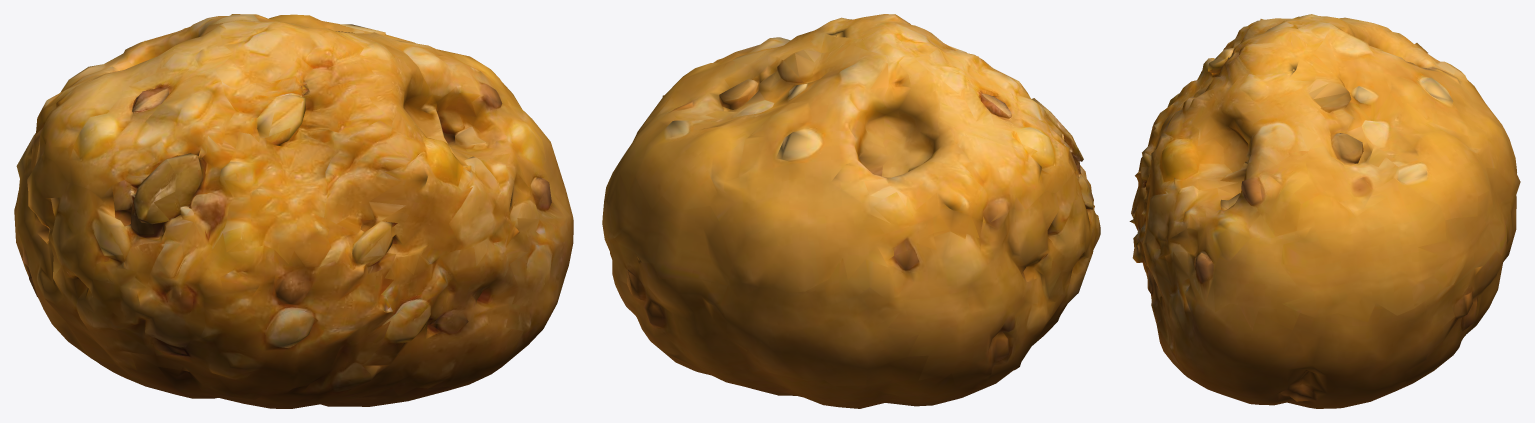
The model's file is bait.glb.
3 views of the same model, side by side, from view 1: azimuth 30°, elevation 25°; view 2: azimuth 150°, elevation 25°; view 3: azimuth 270°, elevation 25° (orthographic). The views are drawn at different scales.
Parts seen in each view (by area): view 1: tripo_node_91207acb-042b-411c-a02d-89ab9c4499af; view 2: tripo_node_91207acb-042b-411c-a02d-89ab9c4499af; view 3: tripo_node_91207acb-042b-411c-a02d-89ab9c4499af.
Part boxes in pixels (x1,y1,x2,y2): tripo_node_91207acb-042b-411c-a02d-89ab9c4499af: (14, 14, 573, 408); tripo_node_91207acb-042b-411c-a02d-89ab9c4499af: (602, 14, 1100, 408); tripo_node_91207acb-042b-411c-a02d-89ab9c4499af: (1129, 14, 1520, 408).
Size of the model in its own units: 0.2109 by 0.16 by 0.1768.
Materials: 1 (1 with a texture image).
